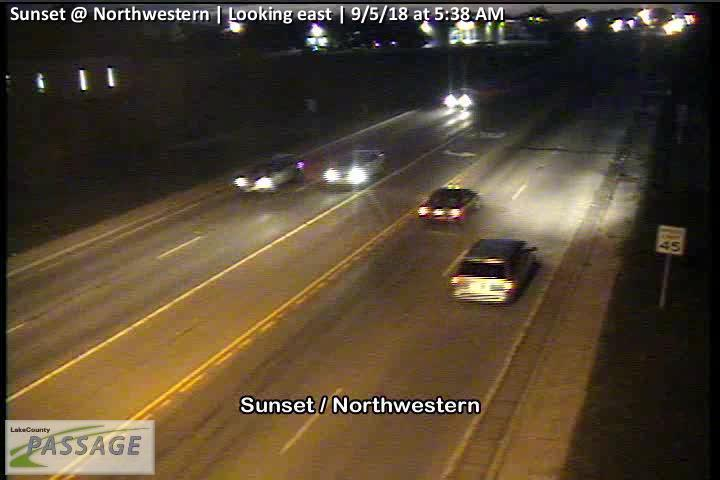SUV: (234, 154, 304, 192)
Sedan: (448, 239, 538, 304), (320, 148, 385, 189), (418, 188, 479, 223)
